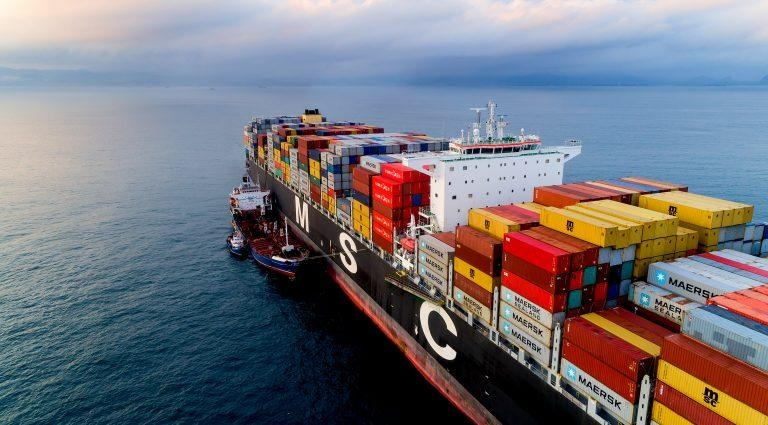Cargoship: (240, 96, 768, 425), (234, 175, 315, 276)
otherboat: (224, 224, 248, 261)
